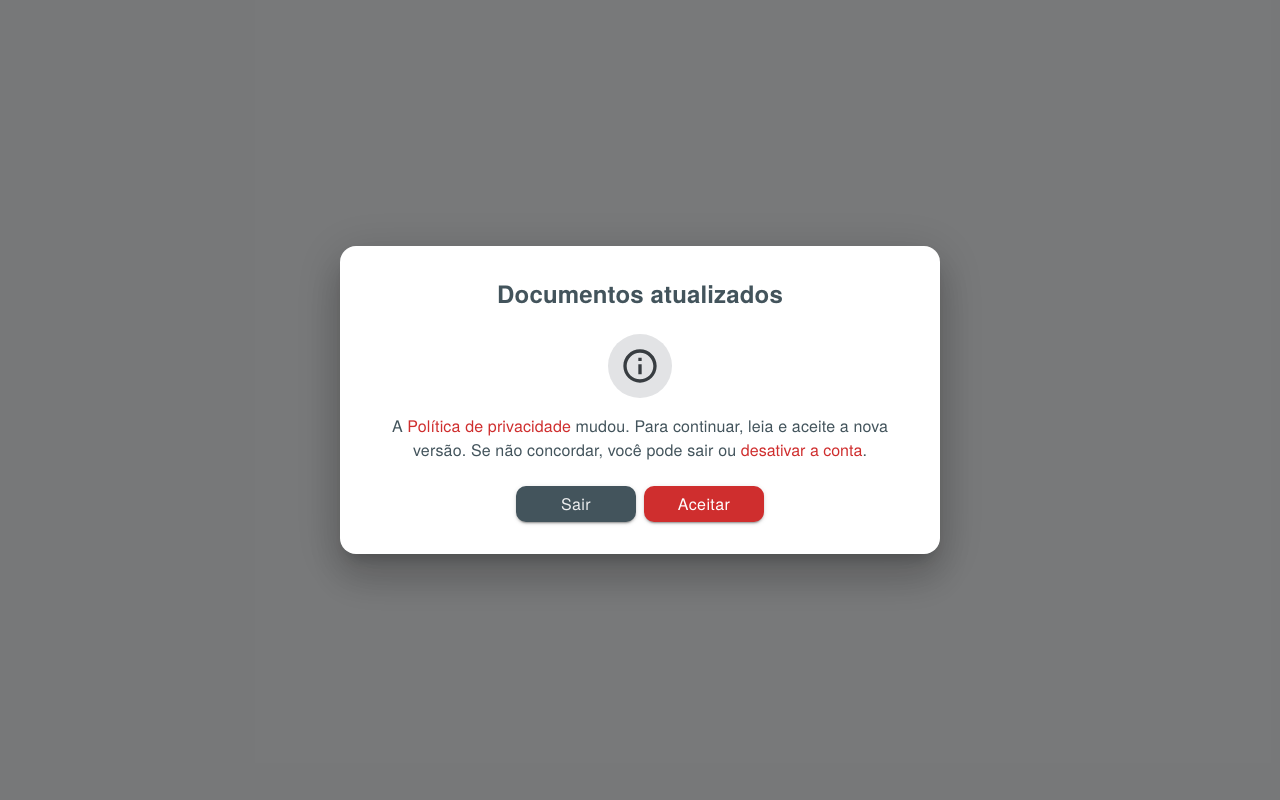
Test: LegalDocumentsDialog › should open the account deactivation confirmation from the link in the text
Click the button "desativar a conta".
click(802, 450)  # box [741,438,862,462]
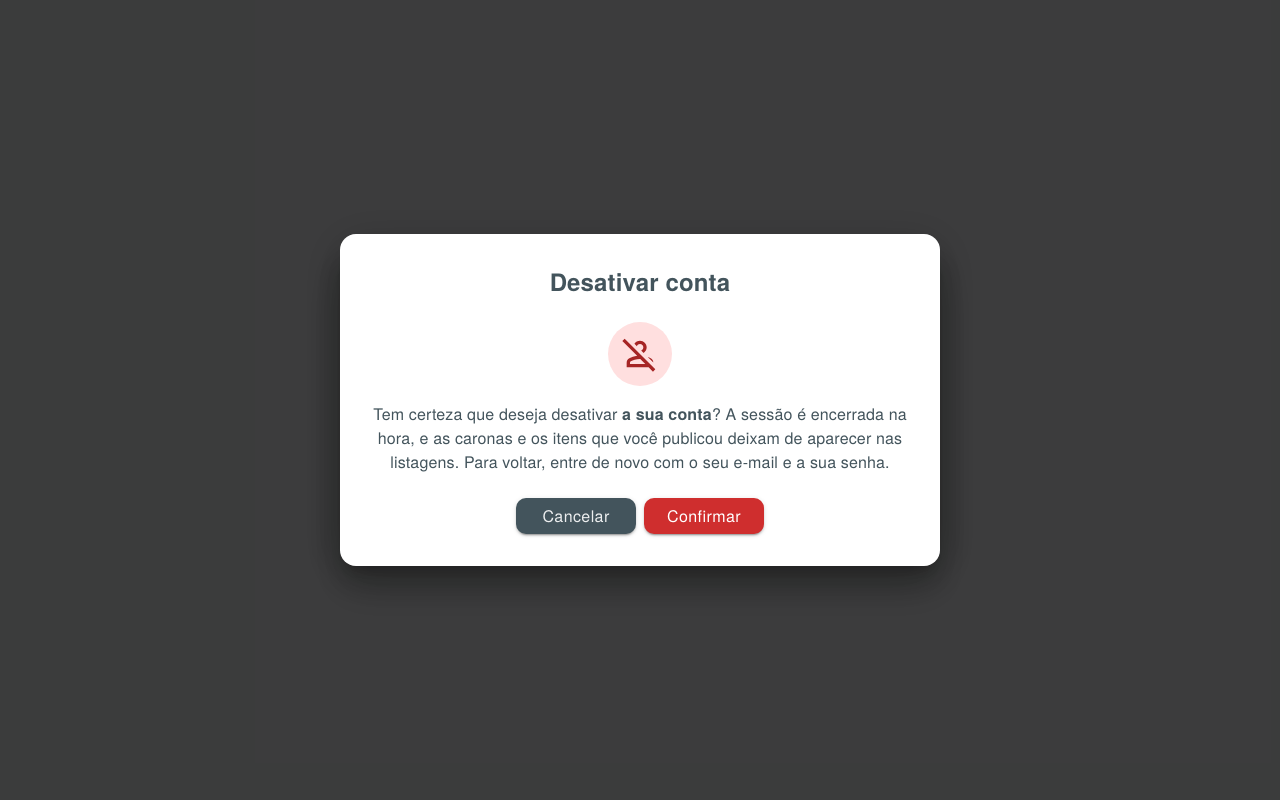
Check: the dialog "Desativar conta" is shown, box [340,234,940,566]
